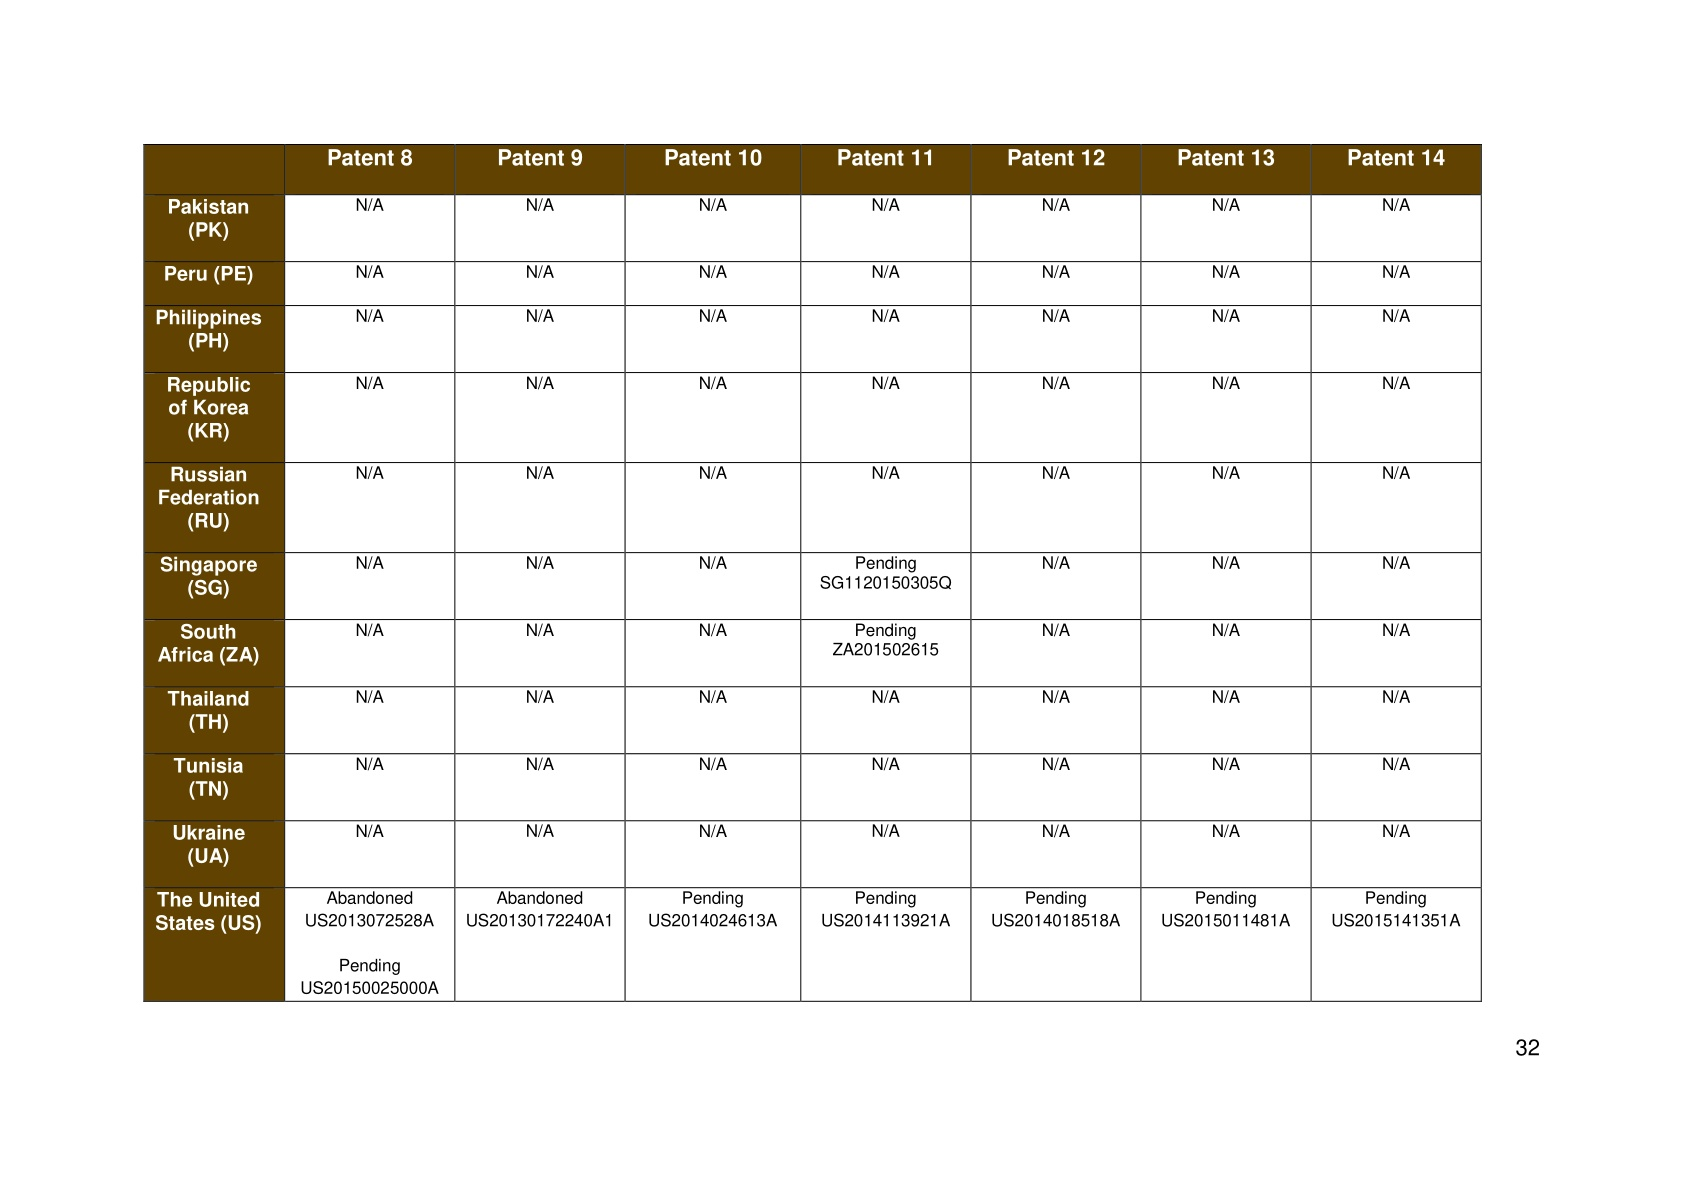full_lined: (142, 143, 1483, 1003)
